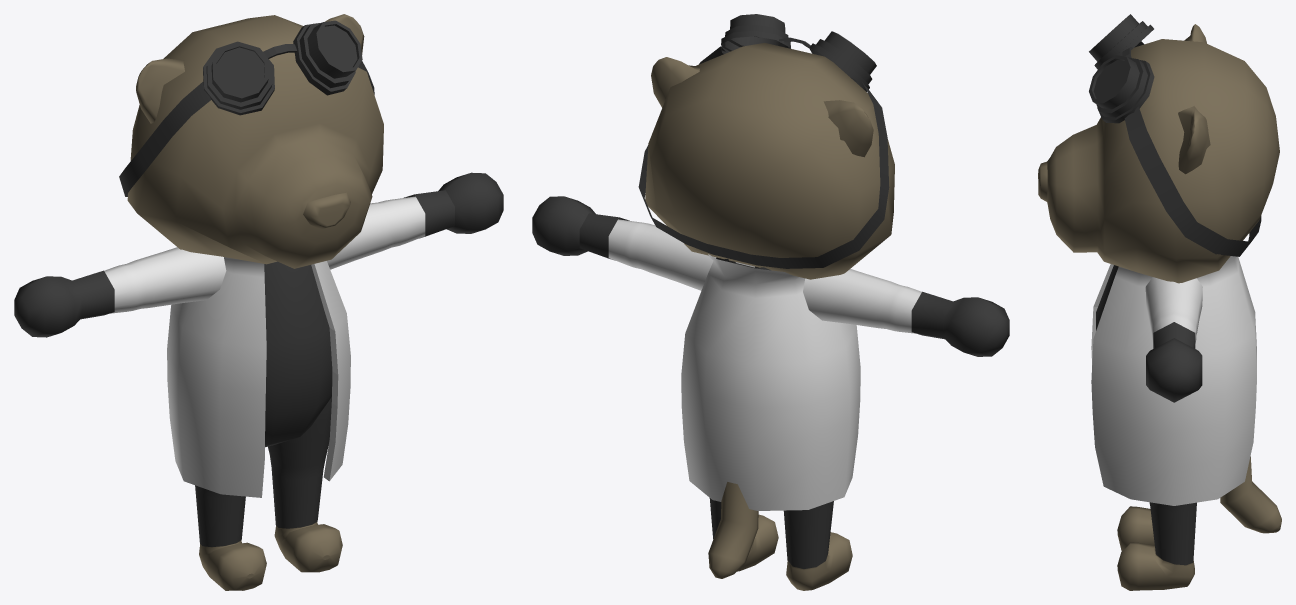
File: Michael_FBX.fbx
3 views of the same model, side by side, from view 1: azimuth 30°, elevation 25°; view 2: azimuth 150°, elevation 25°; view 3: azimuth 270°, elevation 25° (orthographic). The views are drawn at different scales.
Visible parts, largest first — view 1: Scruffles_Geo; view 2: Scruffles_Geo; view 3: Scruffles_Geo.
Part boxes in pixels (<box>): Scruffles_Geo: <box>14,14,503,590</box>; Scruffles_Geo: <box>532,14,1009,590</box>; Scruffles_Geo: <box>1038,14,1281,590</box>.
Size of the model in its own units: 7.05 by 7.66 by 3.2.
